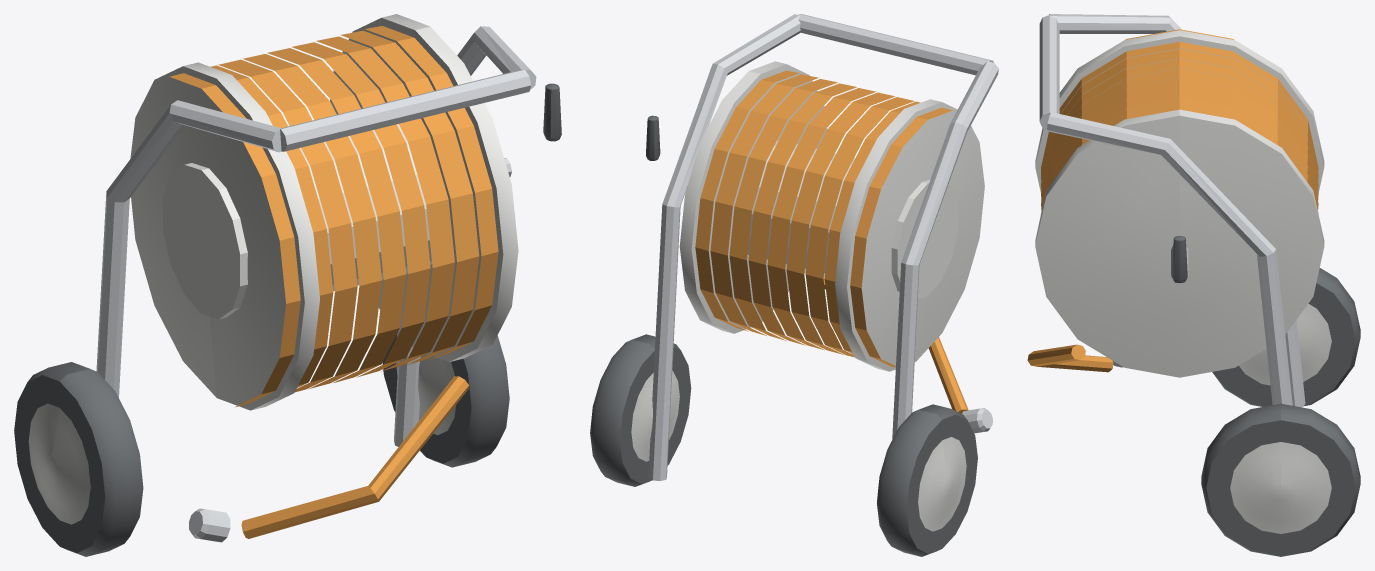
The picture shows the model from 3 angles, left to right: view 1: azimuth 30°, elevation 25°; view 2: azimuth 150°, elevation 25°; view 3: azimuth 270°, elevation 25°; orthographic projection. The views are drawn at different scales.
Parts seen in each view (by area): view 1: hose-reel; view 2: hose-reel; view 3: hose-reel.
Boxes of the visible parts, <box> form: hose-reel: <box>14,14,561,556</box>; hose-reel: <box>590,14,998,556</box>; hose-reel: <box>1027,14,1360,556</box>.
Bounding box in the file's own units: 0.585 × 0.634 × 0.4607.
